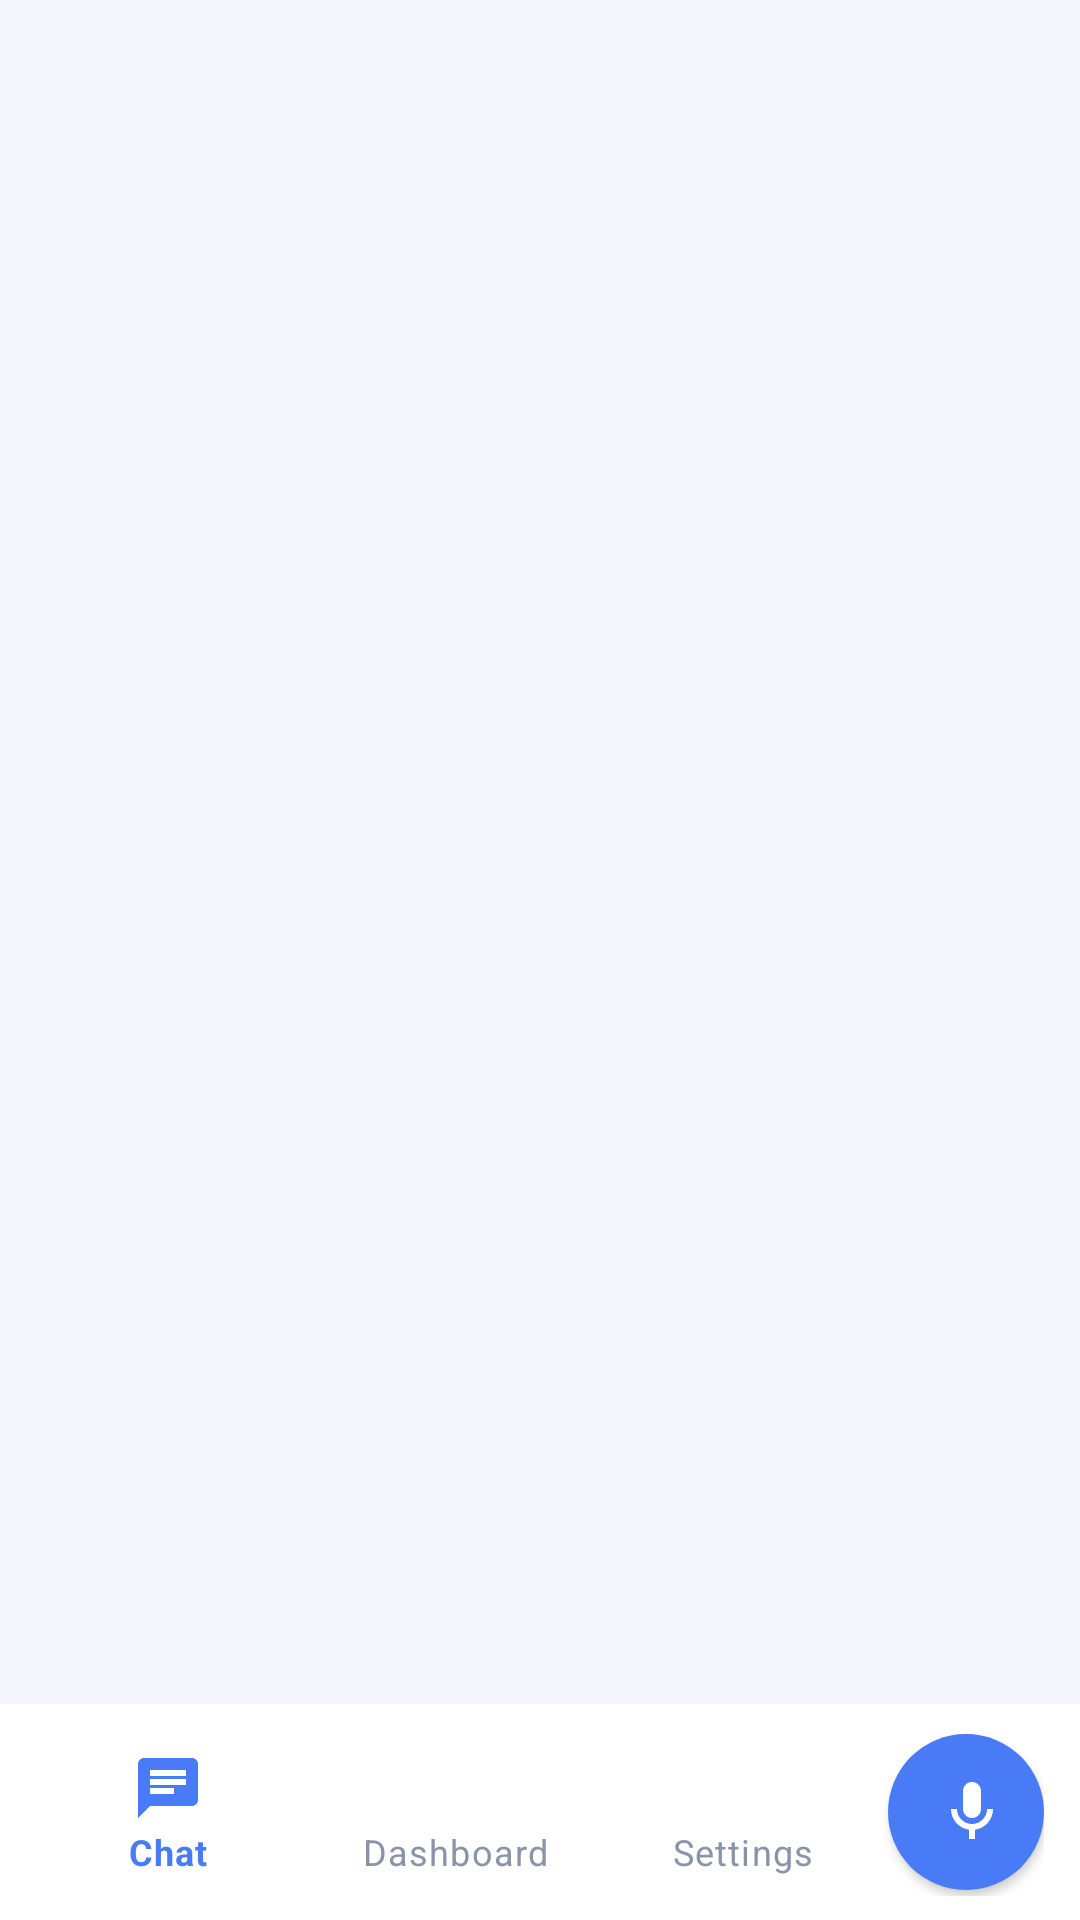

Where icons sit on this 1080w x 1920h app screen, as (x1, y1, x2, y2):
Start listening: (888, 1734, 1044, 1890)
